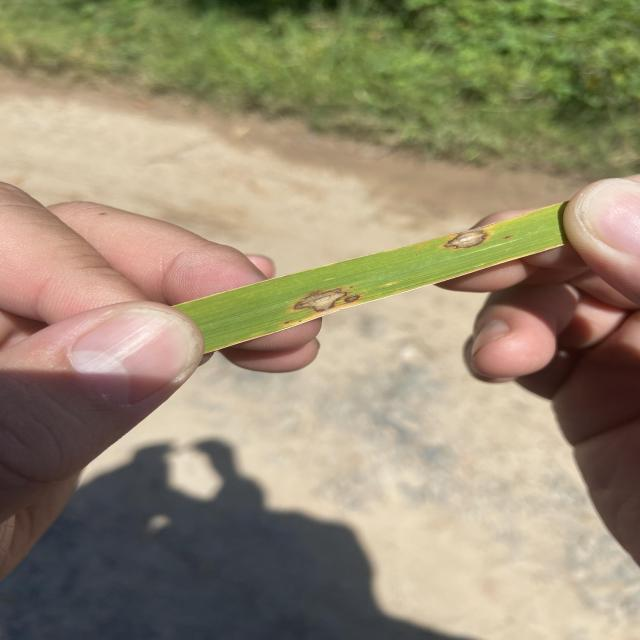Dao on: (293, 288, 348, 312), (443, 228, 489, 249)
